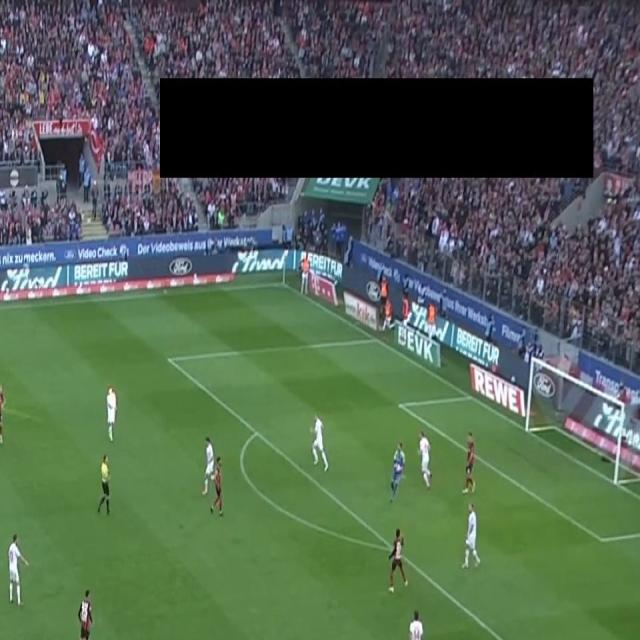ball: (394, 460, 402, 472)
